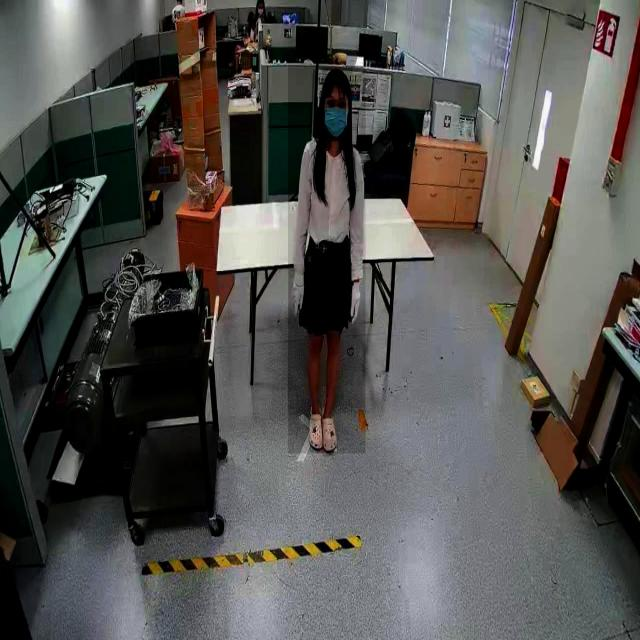face_mask: (319, 100, 346, 142), (256, 2, 264, 18)
hand_glove: (288, 264, 308, 317), (349, 277, 362, 330)
head_nohelmet: (322, 68, 352, 94)
person: (288, 66, 366, 454)
